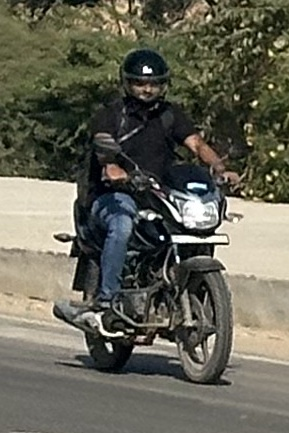BikeWithRider: (46, 42, 252, 388)
Helmet: (110, 43, 179, 112)
